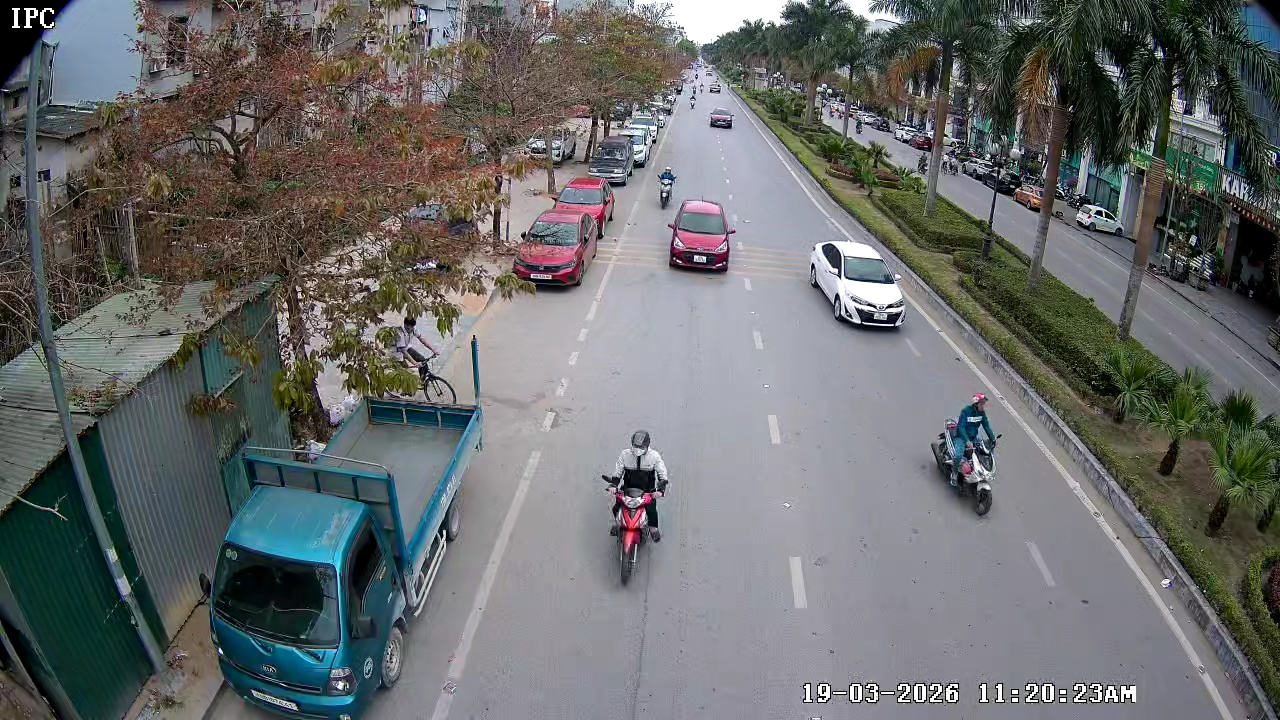car: (808, 240, 906, 330), (513, 209, 591, 291), (667, 199, 736, 274), (552, 176, 616, 240), (587, 129, 632, 189), (708, 104, 736, 132)
motorbike: (601, 428, 671, 589), (933, 393, 1002, 516), (654, 162, 676, 208), (689, 95, 698, 110)
